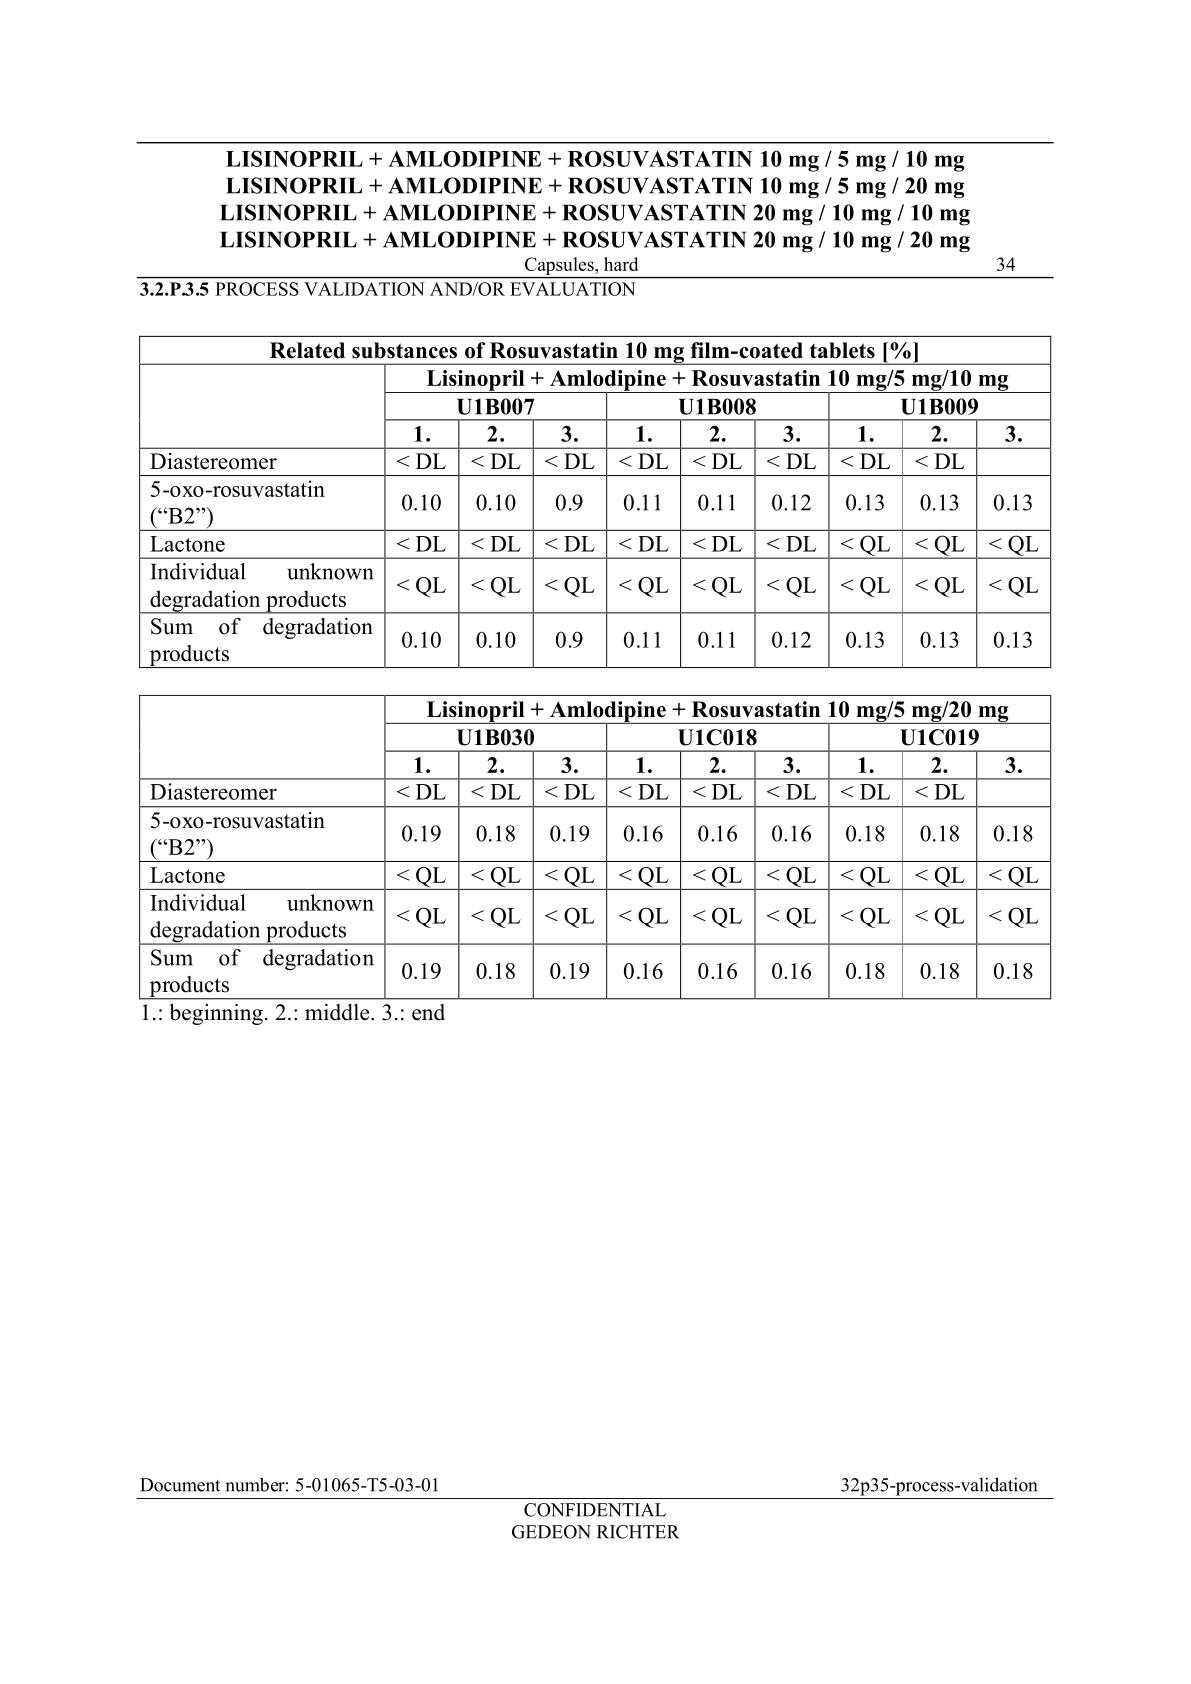merged_cells: (138, 334, 1052, 667), (138, 694, 1051, 1000)
